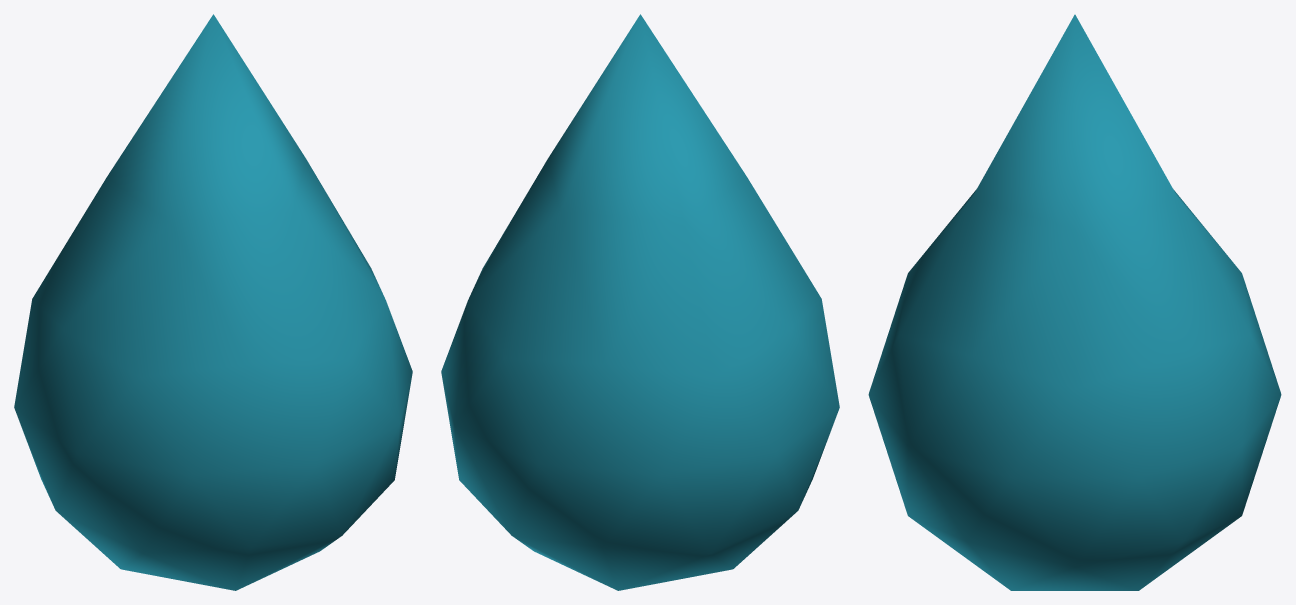
File: raindrop.fbx
3 renders of one model, left to right at view 1: azimuth 30°, elevation 25°; view 2: azimuth 150°, elevation 25°; view 3: azimuth 270°, elevation 25°, orthographic.
Visible parts, largest first — view 1: Icosphere; view 2: Icosphere; view 3: Icosphere.
Boxes of the visible parts, x1,y1,x2,y2 form: Icosphere: (14, 14, 412, 590); Icosphere: (441, 14, 839, 590); Icosphere: (868, 14, 1281, 590).
Size of the model in its own units: 190 by 303 by 200.
